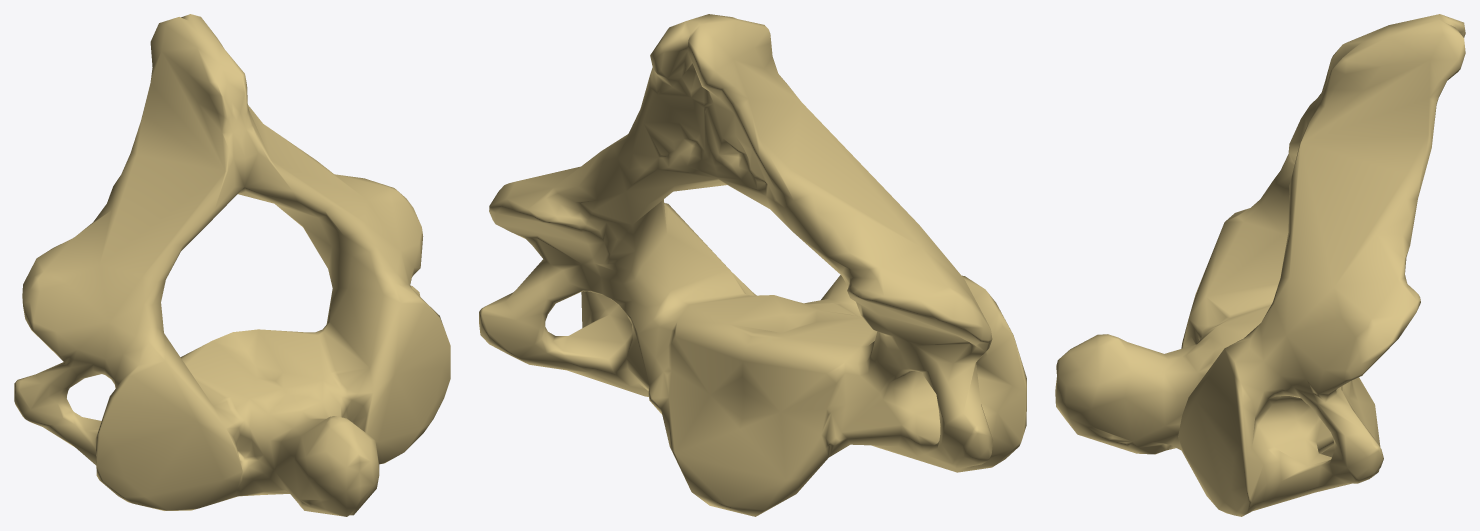
3 views of the same model, side by side, from view 1: azimuth 30°, elevation 25°; view 2: azimuth 150°, elevation 25°; view 3: azimuth 270°, elevation 25° (orthographic). The views are drawn at different scales.
Parts seen in each view (by area): view 1: 枢椎; view 2: 枢椎; view 3: 枢椎.
Boxes of the visible parts, box(x1,y1,x2,y2) form: 枢椎: box(14, 14, 450, 516); 枢椎: box(479, 14, 1026, 516); 枢椎: box(1055, 14, 1465, 516).
Size of the model in its own units: 0.079 by 0.0777 by 0.0632.
